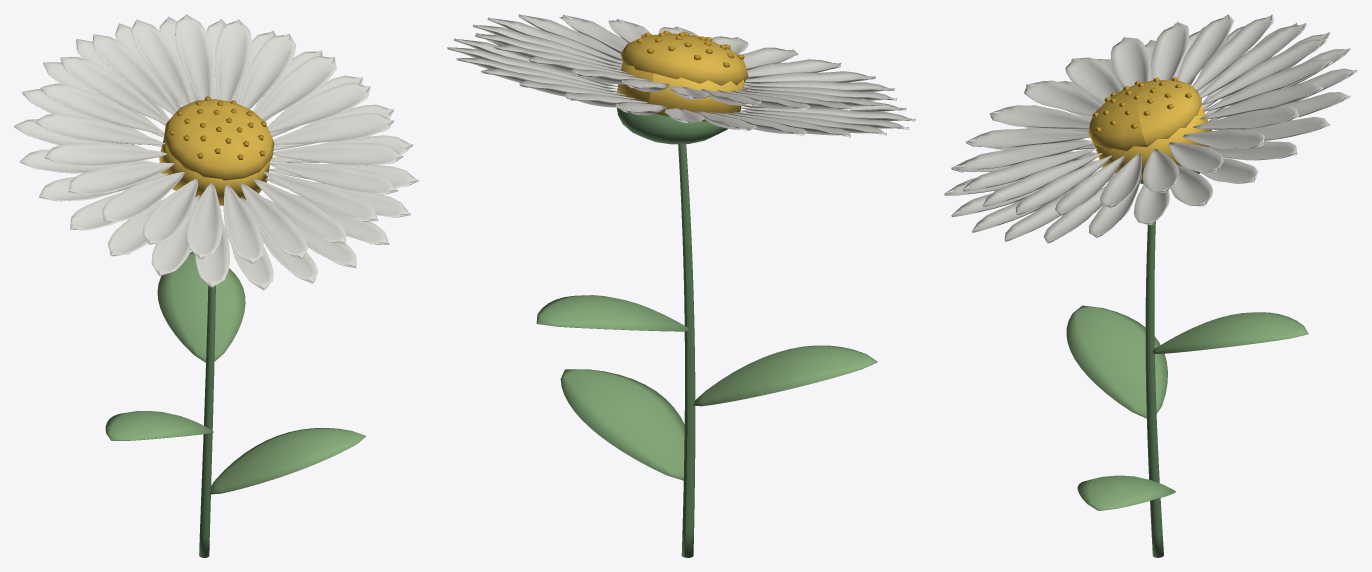
Rendered from daisy-epic-v2.glb.
3 renders of one model, left to right at view 1: azimuth 30°, elevation 25°; view 2: azimuth 150°, elevation 25°; view 3: azimuth 270°, elevation 25°, orthographic. The views are drawn at different scales.
Visible parts, largest first — view 1: daisy-epic-v2-petal, daisy-epic-v2-leaf, daisy-epic-v2-center, daisy-epic-v2-stem, daisy-epic-v2-pollen; view 2: daisy-epic-v2-petal, daisy-epic-v2-leaf, daisy-epic-v2-center, daisy-epic-v2-stem, daisy-epic-v2-pollen; view 3: daisy-epic-v2-petal, daisy-epic-v2-leaf, daisy-epic-v2-center, daisy-epic-v2-stem, daisy-epic-v2-pollen.
Boxes of the visible parts, <box> form: daisy-epic-v2-petal: <box>14,14,418,290</box>; daisy-epic-v2-leaf: <box>105,252,366,494</box>; daisy-epic-v2-center: <box>159,99,274,205</box>; daisy-epic-v2-stem: <box>173,189,215,557</box>; daisy-epic-v2-pollen: <box>169,96,266,159</box>; daisy-epic-v2-petal: <box>447,14,915,137</box>; daisy-epic-v2-leaf: <box>536,295,877,480</box>; daisy-epic-v2-center: <box>616,33,748,121</box>; daisy-epic-v2-stem: <box>617,108,727,557</box>; daisy-epic-v2-pollen: <box>637,30,744,67</box>; daisy-epic-v2-petal: <box>944,14,1357,243</box>; daisy-epic-v2-leaf: <box>1066,305,1308,510</box>; daisy-epic-v2-center: <box>1088,80,1211,180</box>; daisy-epic-v2-stem: <box>1140,146,1209,557</box>; daisy-epic-v2-pollen: <box>1092,77,1191,132</box>.
Bounding box in the file's own units: 1.31 × 1.67 × 1.25.
